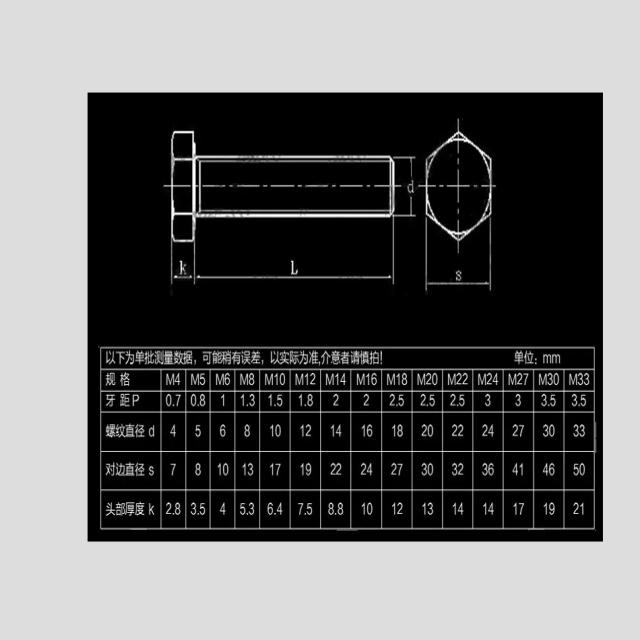numeric: (390, 498, 408, 522), (360, 454, 376, 480), (387, 393, 411, 410), (167, 415, 182, 441), (298, 498, 316, 519), (327, 500, 346, 519), (238, 497, 256, 517), (266, 423, 287, 440), (419, 498, 436, 519), (268, 457, 284, 479), (300, 418, 316, 440), (420, 460, 438, 479), (419, 391, 437, 410), (541, 422, 559, 441), (164, 391, 184, 408), (239, 393, 259, 410), (265, 499, 285, 516), (327, 458, 343, 479), (216, 458, 231, 480), (510, 498, 525, 520), (571, 496, 586, 518), (512, 457, 525, 482), (572, 424, 590, 442), (297, 462, 316, 479), (360, 498, 377, 517), (189, 394, 209, 410), (298, 394, 318, 410), (480, 460, 496, 480), (573, 460, 589, 480), (389, 460, 405, 479), (541, 463, 557, 482), (361, 422, 376, 442), (449, 394, 469, 409), (265, 394, 288, 407), (166, 499, 183, 516), (239, 463, 255, 481), (329, 421, 345, 439), (421, 423, 437, 441), (479, 502, 495, 520), (390, 422, 405, 441), (451, 461, 466, 480), (451, 500, 466, 519), (481, 421, 496, 439), (450, 424, 464, 443), (570, 395, 589, 409), (168, 454, 179, 478), (511, 423, 525, 440), (542, 395, 559, 409), (541, 500, 554, 518), (177, 258, 188, 279), (289, 253, 299, 276), (191, 501, 205, 517), (360, 394, 372, 411), (451, 270, 463, 284), (330, 392, 342, 406), (219, 423, 228, 441), (192, 421, 202, 437), (483, 392, 493, 408), (194, 460, 203, 477), (244, 417, 250, 442), (218, 396, 226, 412), (217, 503, 226, 517), (515, 393, 522, 409)
